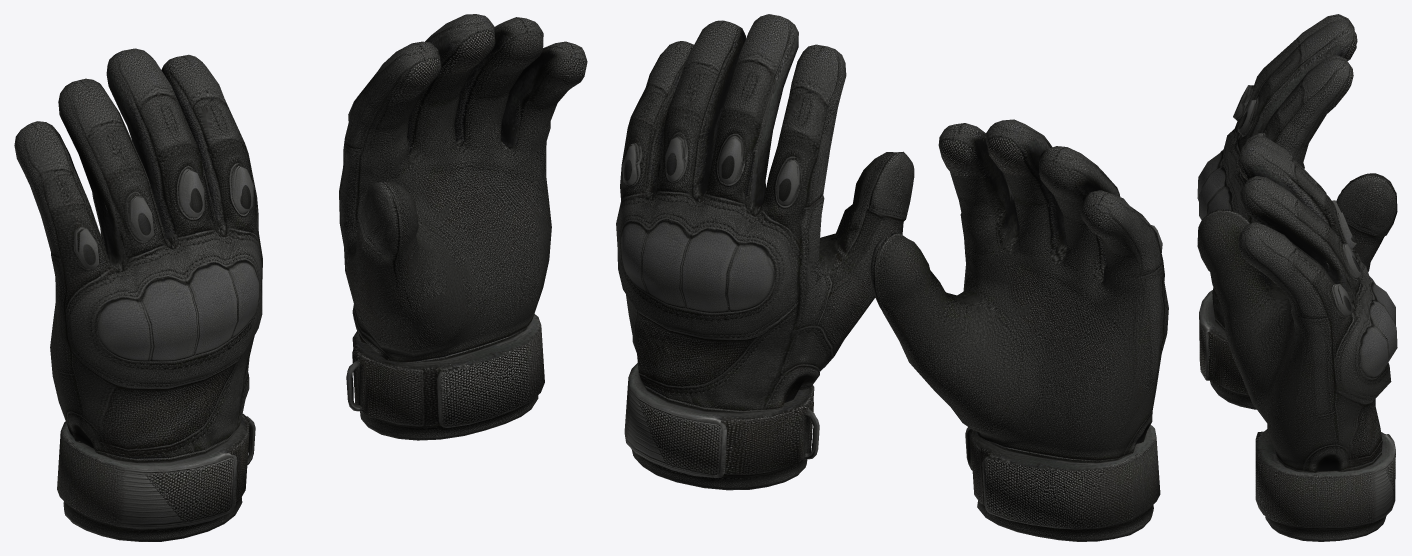
Rendered from tactical_combat_gloves_-_game_ready.glb.
3 renders of one model, left to right at view 1: azimuth 30°, elevation 25°; view 2: azimuth 150°, elevation 25°; view 3: azimuth 270°, elevation 25°, orthographic. The views are drawn at different scales.
Parts seen in each view (by area): view 1: obj1_0, obj1.001_1; view 2: obj1.001_1, obj1_0; view 3: obj1.001_1, obj1_0.
Boxes of the visible parts, left/top/right/bottom form: obj1_0: left=14, top=48, right=262, bottom=541; obj1.001_1: left=339, top=14, right=587, bottom=440; obj1.001_1: left=616, top=14, right=914, bottom=490; obj1_0: left=870, top=119, right=1168, bottom=541; obj1.001_1: left=1197, top=134, right=1397, bottom=541; obj1_0: left=1197, top=14, right=1397, bottom=409.
Size of the model in its own units: 1.28 by 1 by 0.499.
1 material, 1 textured.
